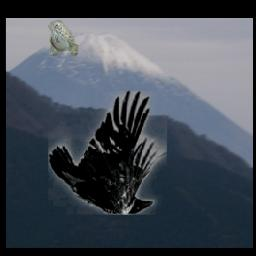Crow: (49, 91, 168, 215)
Sparrow: (49, 20, 79, 56)
